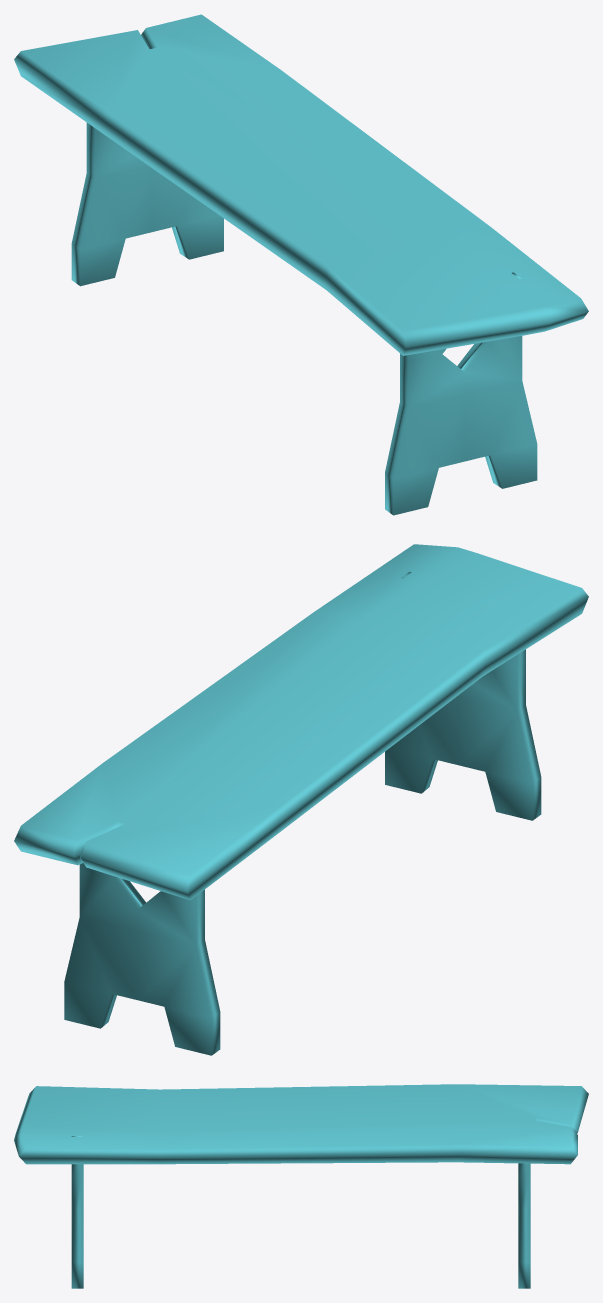
The model's file is Bench_02_Lod0.fbx.
The picture shows the model from 3 angles, top to bottom: view 1: azimuth 30°, elevation 25°; view 2: azimuth 150°, elevation 25°; view 3: azimuth 270°, elevation 25°; orthographic projection. The views are drawn at different scales.
Parts seen in each view (by area): view 1: Bench_02_Lod0; view 2: Bench_02_Lod0; view 3: Bench_02_Lod0.
Boxes of the visible parts, left/top/right/bottom form: Bench_02_Lod0: left=14, top=14, right=588, bottom=515; Bench_02_Lod0: left=14, top=544, right=588, bottom=1055; Bench_02_Lod0: left=14, top=1084, right=588, bottom=1288.
Bounding box in the file's own units: 37.75 × 42.49 × 148.
